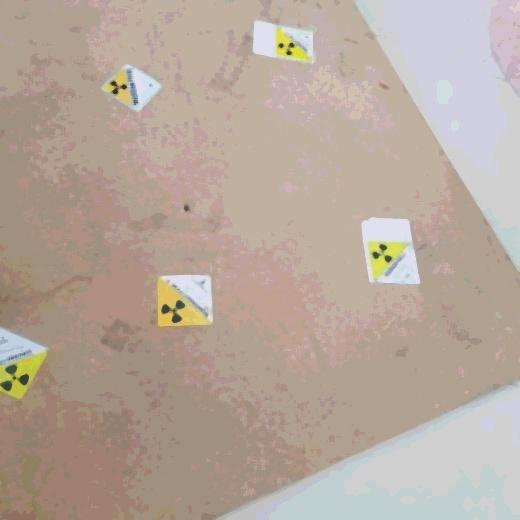radioactive: (1, 323, 52, 403), (362, 216, 421, 283), (101, 62, 162, 118), (155, 275, 214, 329), (253, 19, 316, 64)
